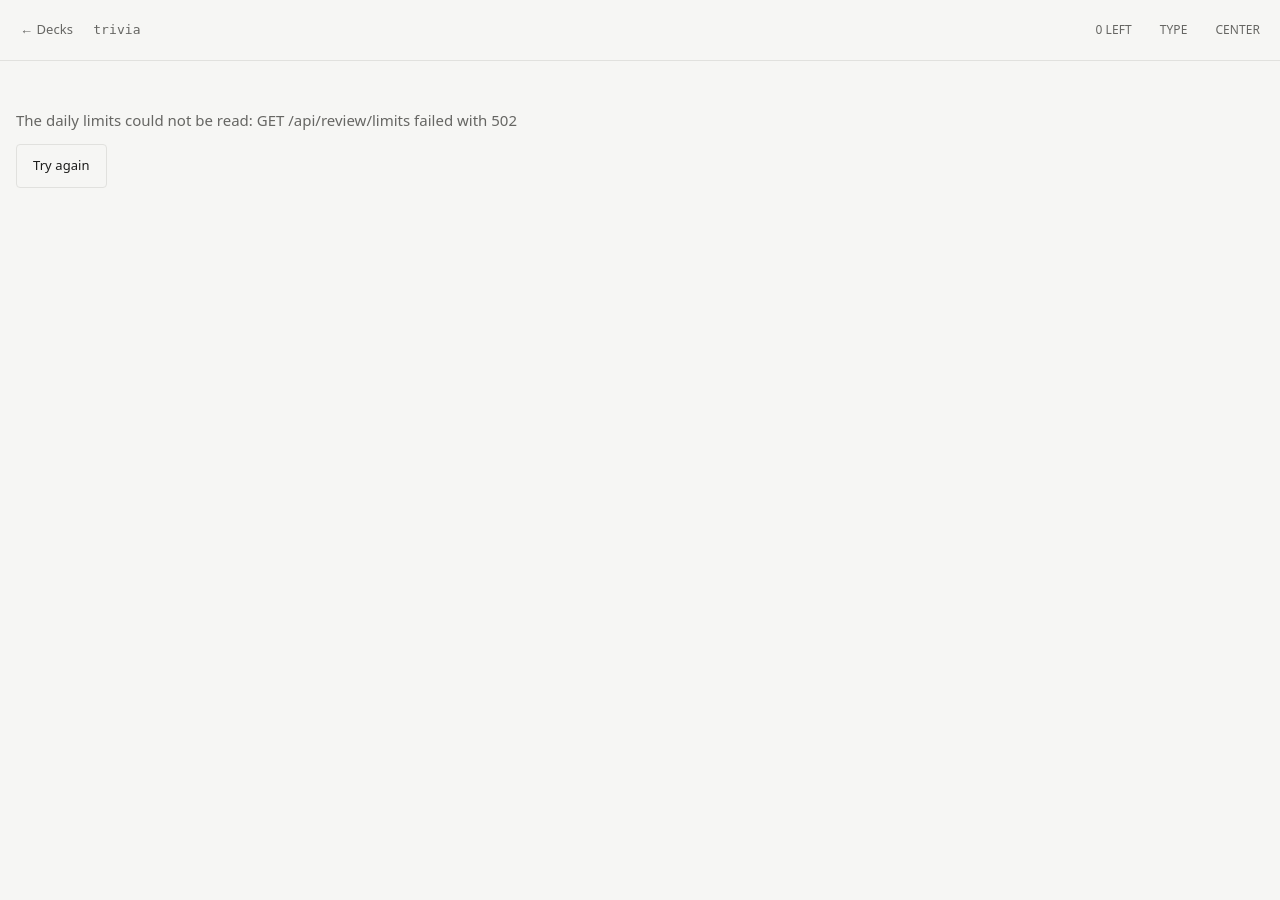
Test: a sitting whose daily limits read failed for good can try again (#1167) › #1167 A1 a sitting whose limits read failed for good reads them again on Try again and asks the card, with no alert
The width and height of the screenshot is (1280, 900).
Expected: the message reads "The daily limits could not be read: GET /api/review/limits failed with 502", [16,110,517,130]
What coordinates should you click on to do the following:
click the button "Try again"
I would click on:
 (61, 166)
Its box is [16,144,107,188].
Wait 100 ms
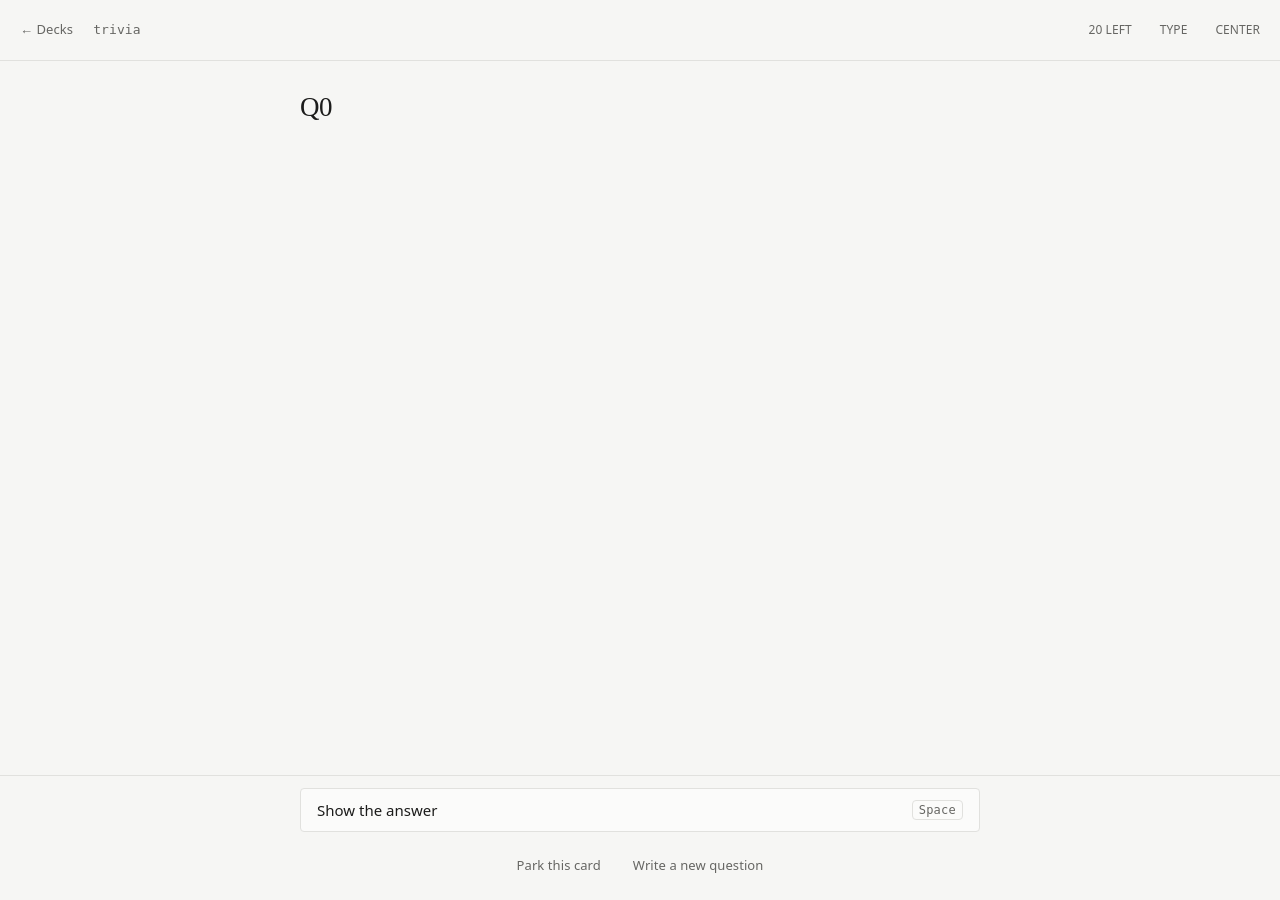
Expected: the element with test id "review-card" is shown, [300,92,332,122]
Expected: the message "The daily limits could not be read: GET /api/review/limits failed with 502" is gone
Expected: the button "Try again" is gone
